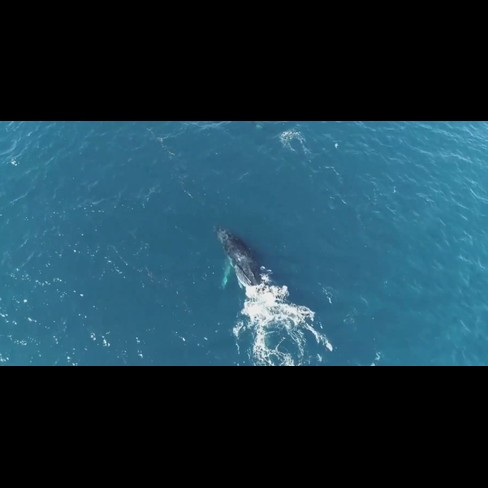orca: (193, 215, 314, 360)
